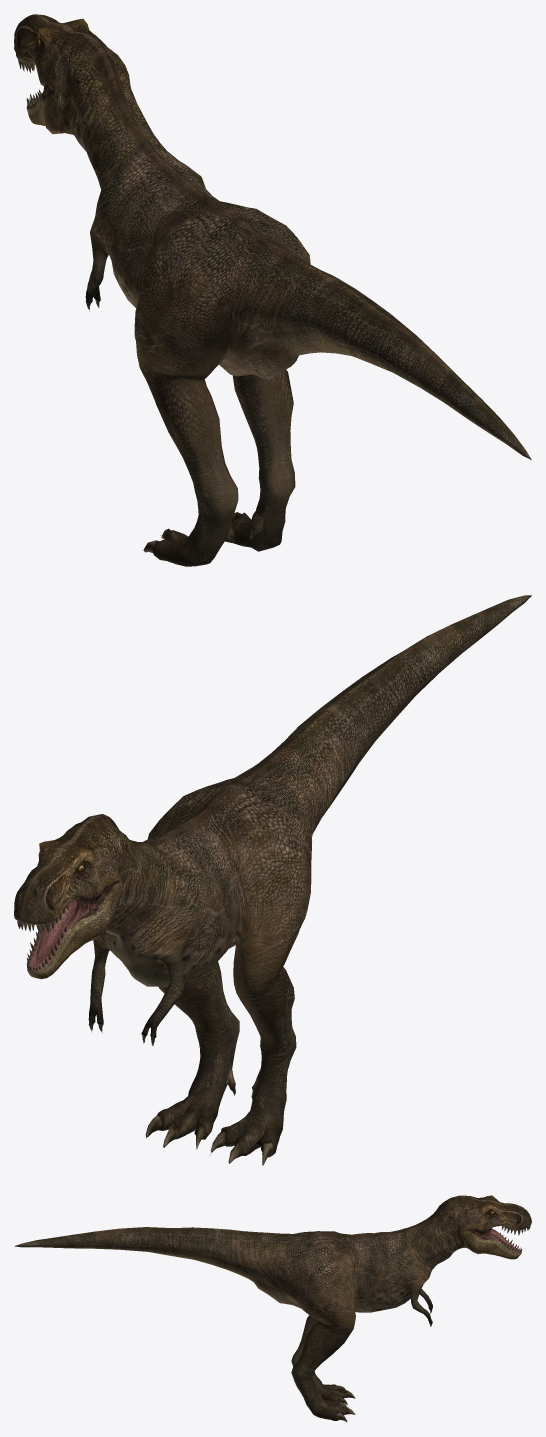
The model's file is dinausor.obj.
3 renders of one model, top to bottom at view 1: azimuth 30°, elevation 25°; view 2: azimuth 150°, elevation 25°; view 3: azimuth 270°, elevation 25°, orthographic. The views are drawn at different scales.
Visible parts, largest first — view 1: Trex_Rigged; view 2: Trex_Rigged; view 3: Trex_Rigged.
Boxes of the visible parts, x1=… form: Trex_Rigged: x1=14, y1=14, x2=531, y2=566; Trex_Rigged: x1=14, y1=595, x2=531, y2=1165; Trex_Rigged: x1=15, y1=1195, x2=531, y2=1421.
Bounding box in the file's own units: 1.42 × 3.71 × 8.2.
2 materials, 1 textured.
